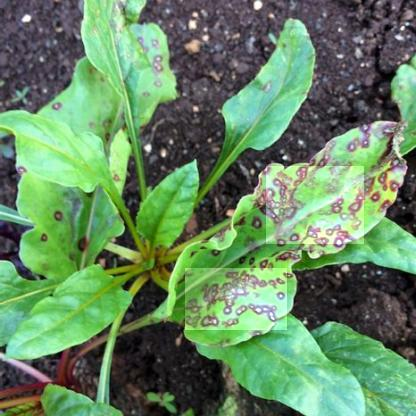black-spot: (266, 166, 364, 244), (186, 268, 288, 330)
